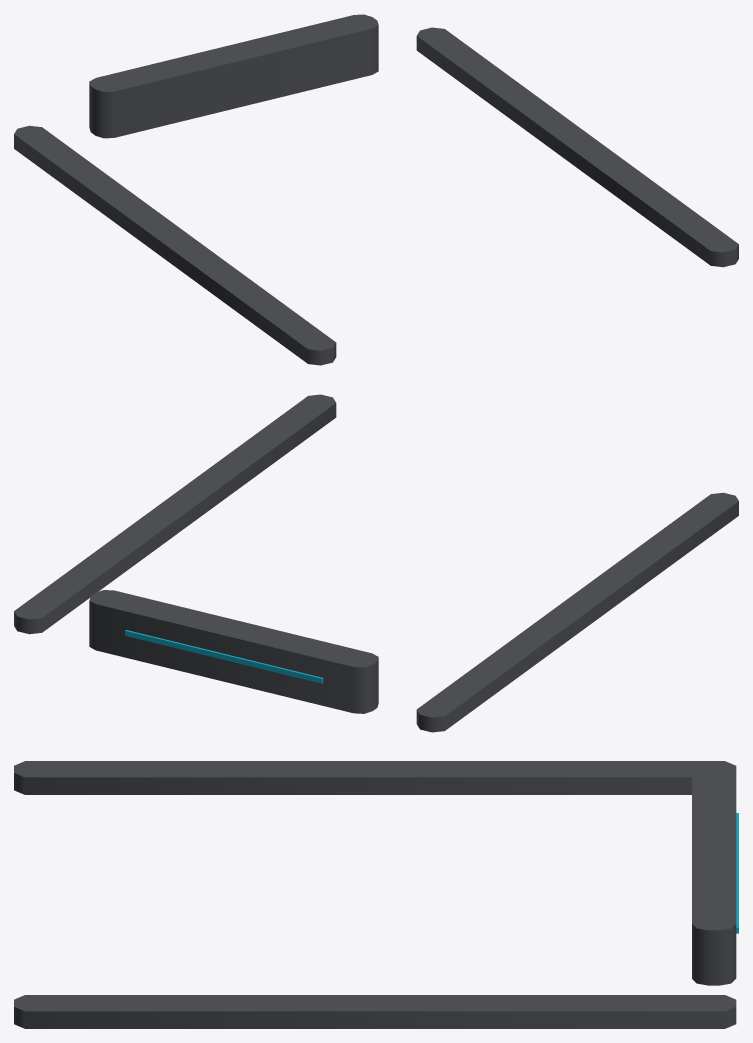
The model's file is mcc1_mount.obj.
3 views of the same model, one above another, from view 1: azimuth 30°, elevation 25°; view 2: azimuth 150°, elevation 25°; view 3: azimuth 270°, elevation 25° (orthographic). The views are drawn at different scales.
Parts seen in each view (by area): view 1: mcc1_mount; view 2: mcc1_mount; view 3: mcc1_mount.
Boxes of the visible parts, <box> form: mcc1_mount: <box>14,14,738,365</box>; mcc1_mount: <box>14,394,738,732</box>; mcc1_mount: <box>14,761,738,1028</box>.
Bounding box in the file's own units: 1.07 × 0.11 × 1.31.
